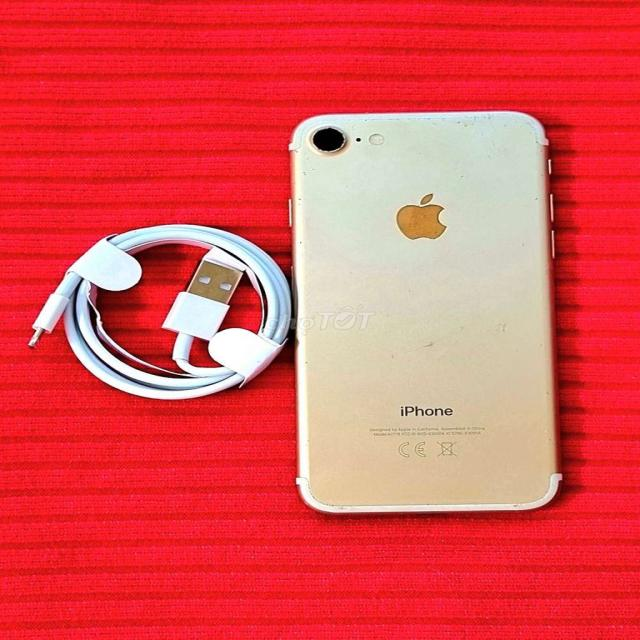scratch: (335, 110, 539, 140), (469, 315, 533, 377), (289, 160, 307, 254), (380, 332, 446, 354), (303, 127, 352, 154), (299, 343, 309, 372)
